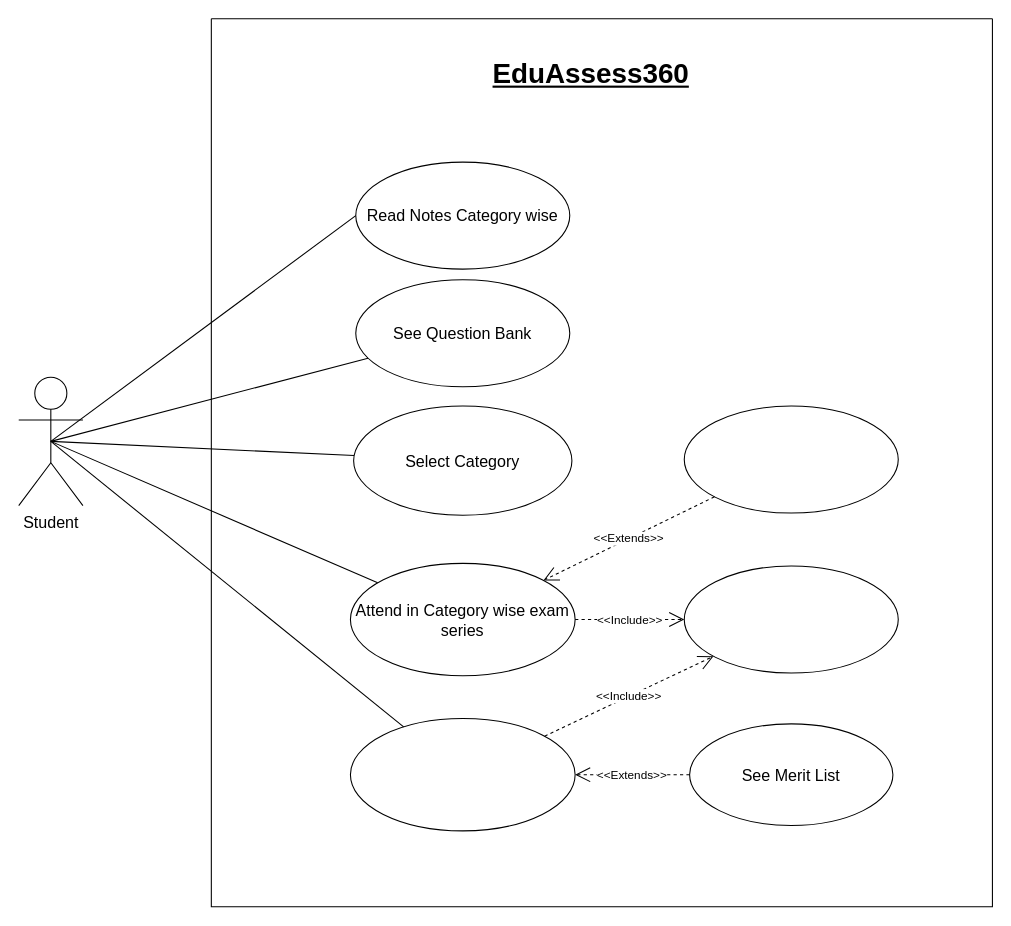
This 1011x926 diagram has some shape labels left out. Each missing label, with the box of its shape:
Attend in Live exam: (349, 717, 575, 831)
Registration / Login: (683, 565, 898, 673)
See analytical result and notes: (683, 405, 898, 513)
